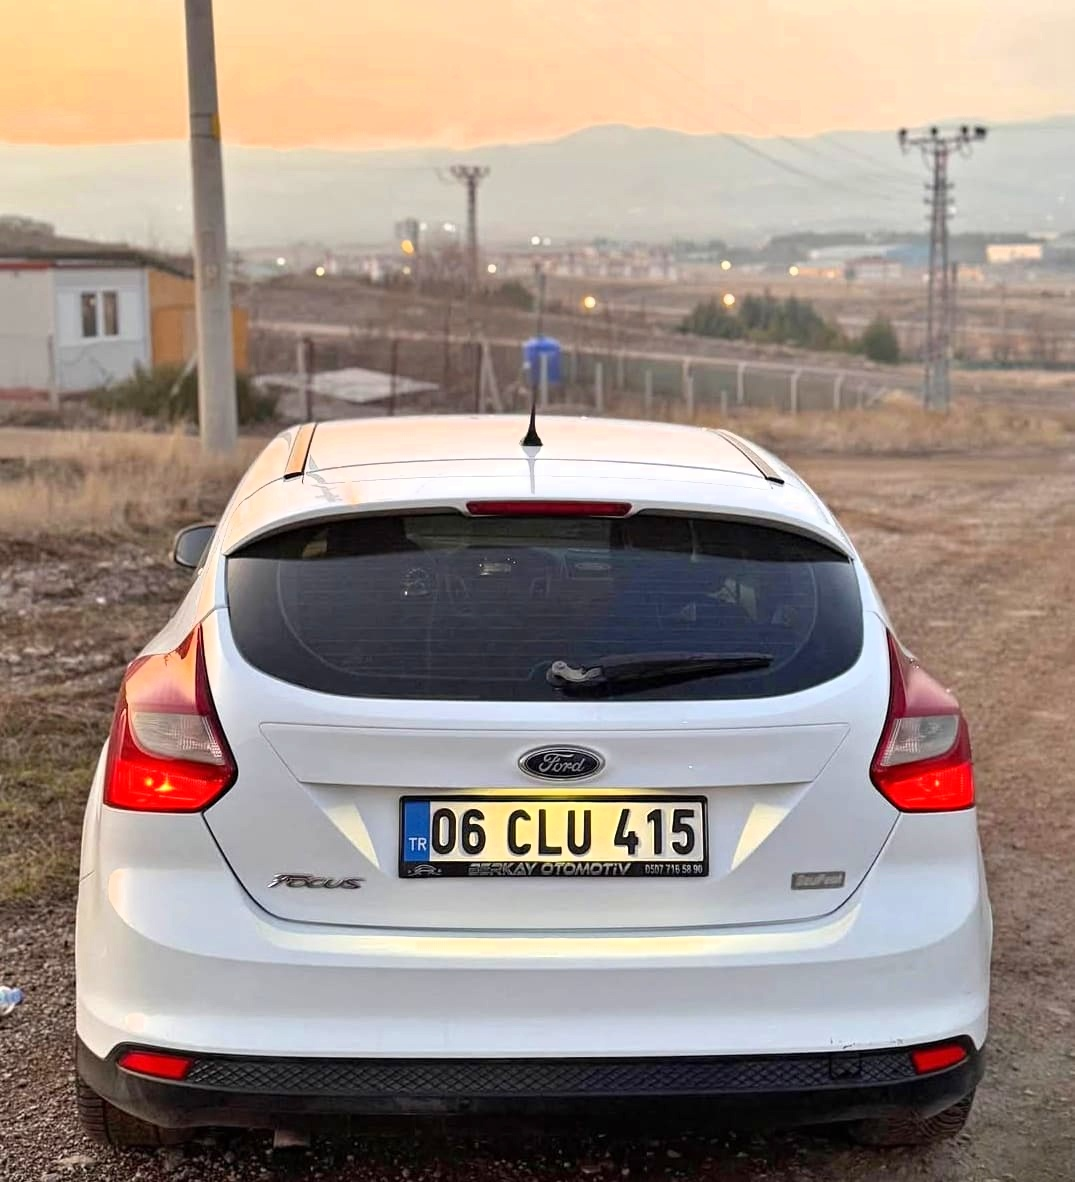plaka: (412, 784, 710, 865)
